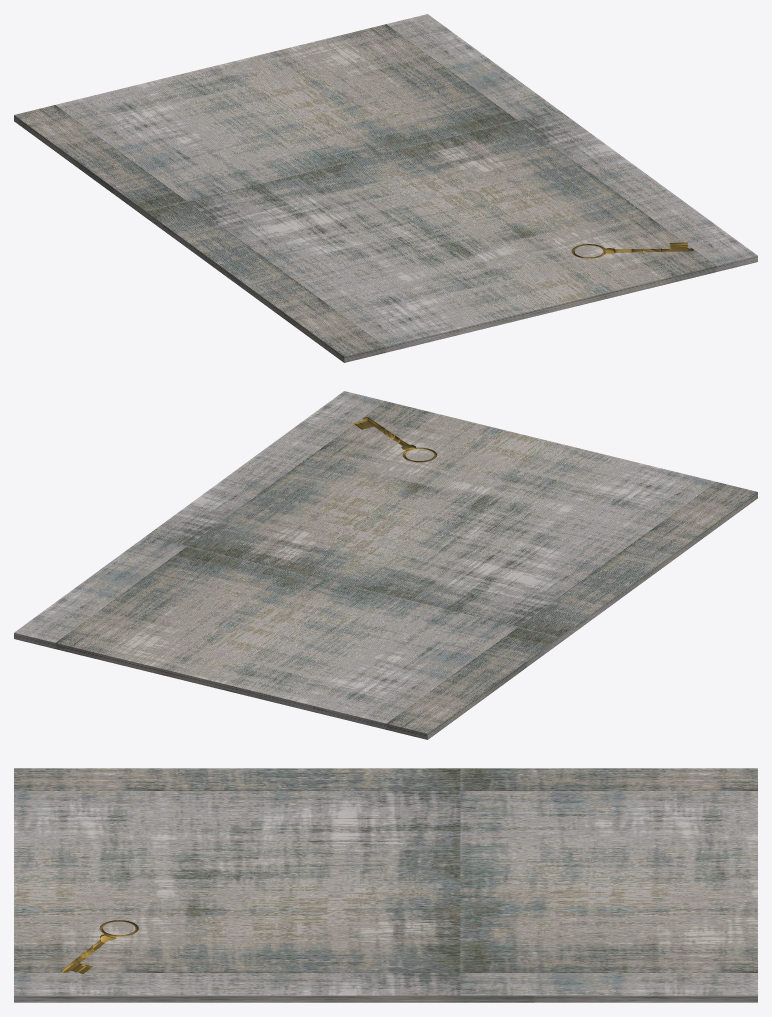
Rendered from FloorTextureWithKeyStain.fbx.
3 renders of one model, top to bottom at view 1: azimuth 30°, elevation 25°; view 2: azimuth 150°, elevation 25°; view 3: azimuth 270°, elevation 25°, orthographic. The views are drawn at different scales.
Parts seen in each view (by area): view 1: Key_Stain; view 2: Key_Stain; view 3: Key_Stain.
Boxes of the visible parts, box(x1,y1,x2,y2) form: Key_Stain: box(14, 14, 757, 362); Key_Stain: box(14, 391, 757, 739); Key_Stain: box(14, 768, 757, 1002).
Size of the model in its own units: 11.5 by 0.1668 by 15.9.
Materials: 2 (2 with a texture image).
